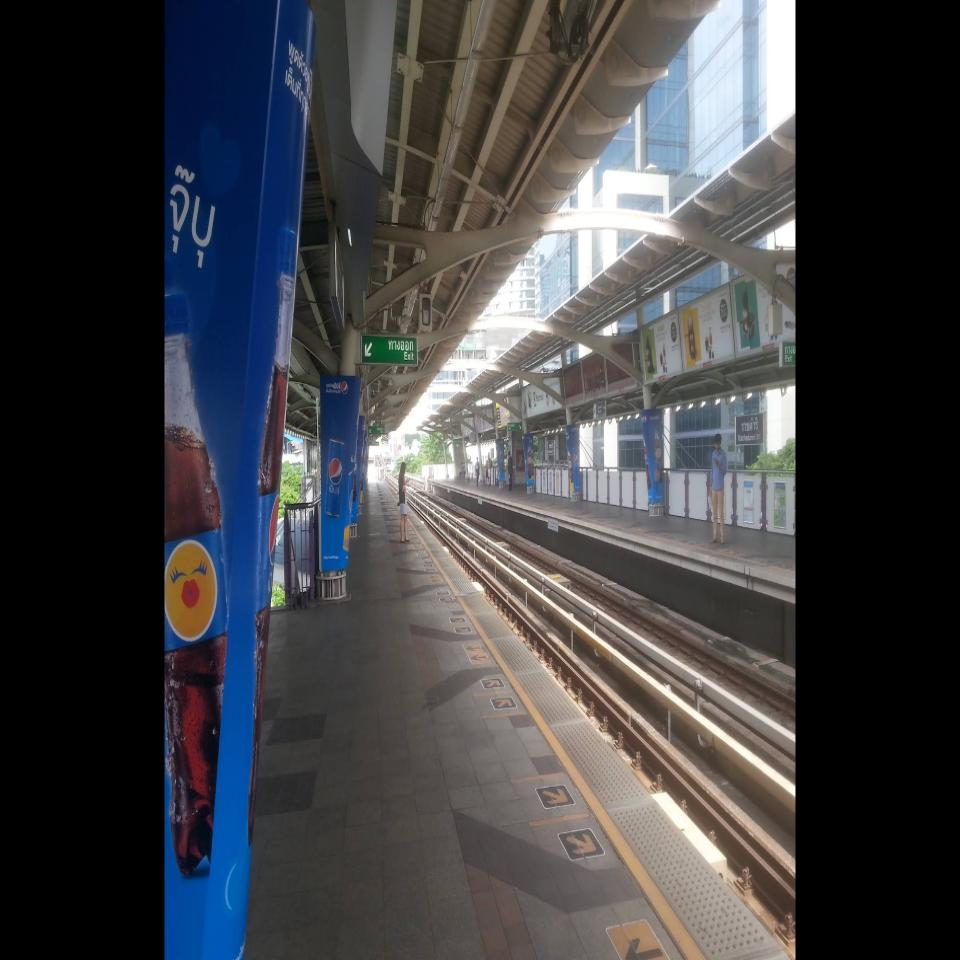signage: (735, 411, 765, 446)
